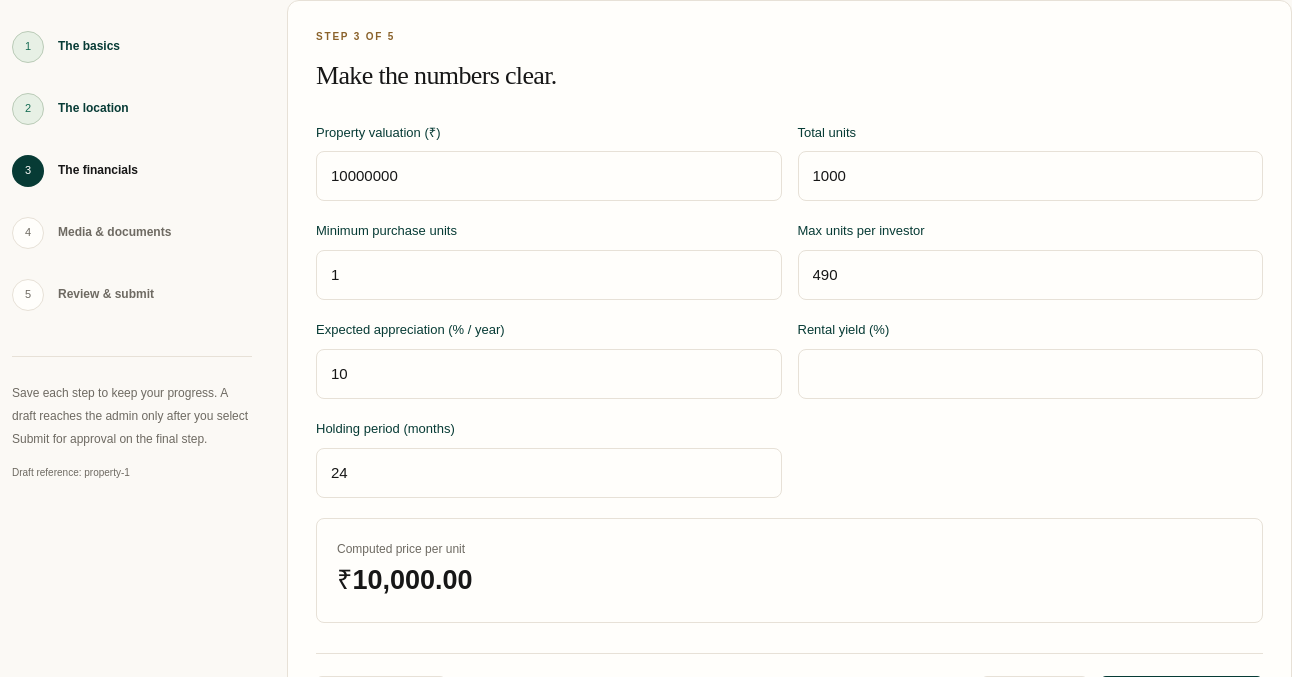
Test: saved listing wizard › preserves financial input when navigating back and saving the location step
Replace the text in the number field labelled "Total units" with "2000" at (1030,176), box [798,151,1263,201]
(page scrolled)
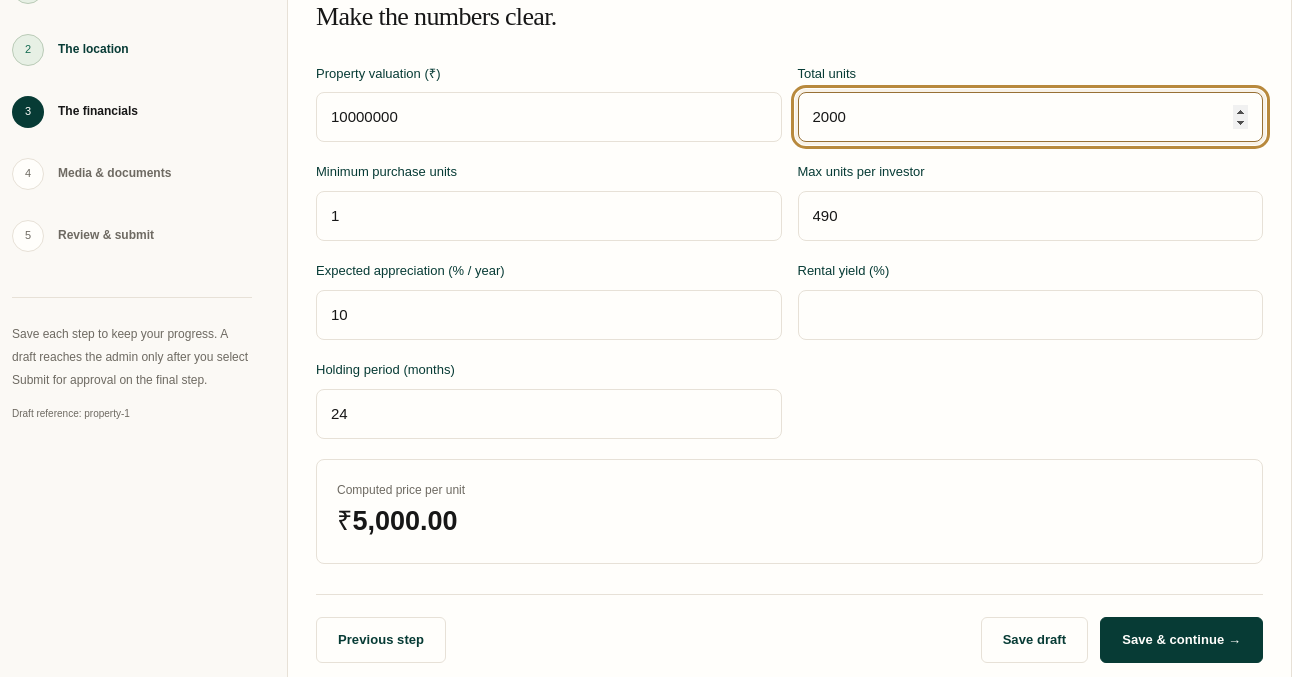
Click the button "Previous step" at (381,640), box [316,617,446,663]
(page scrolled)
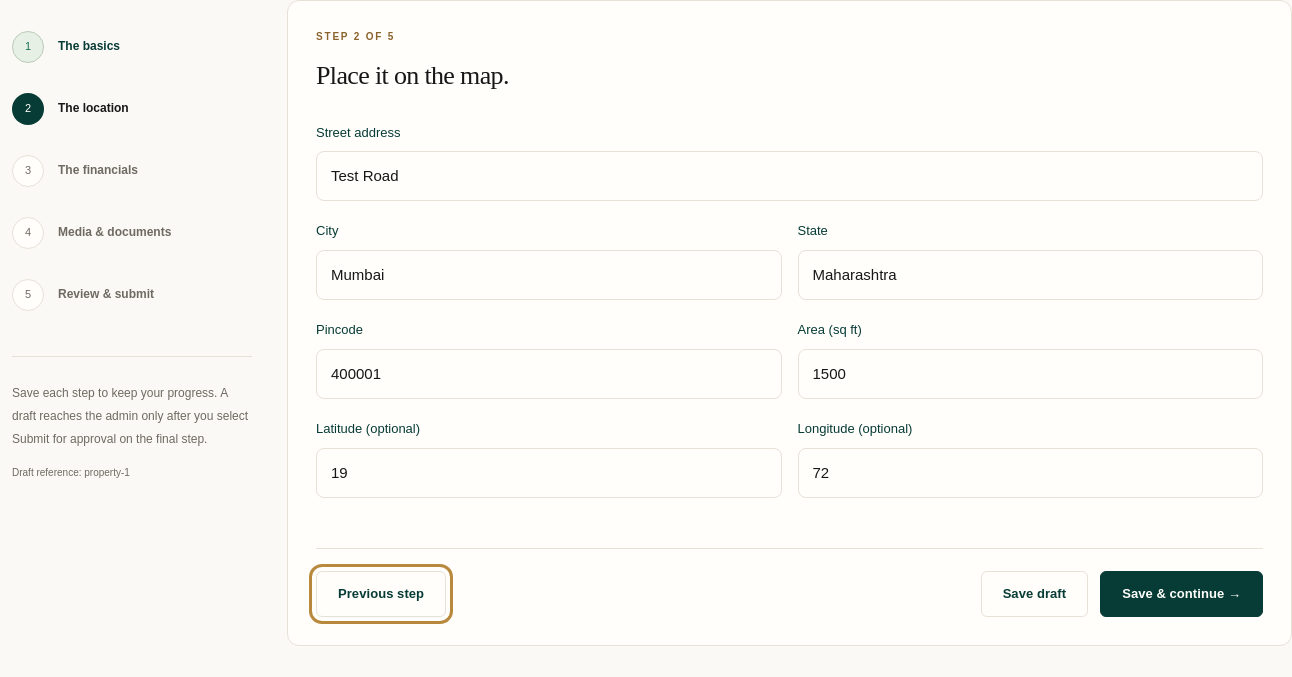
Now the field labelled "City" holds "Mumbai", box [316,250,782,300]
Click the button "Save & continue →" at (1182,594), box [1100,571,1263,617]
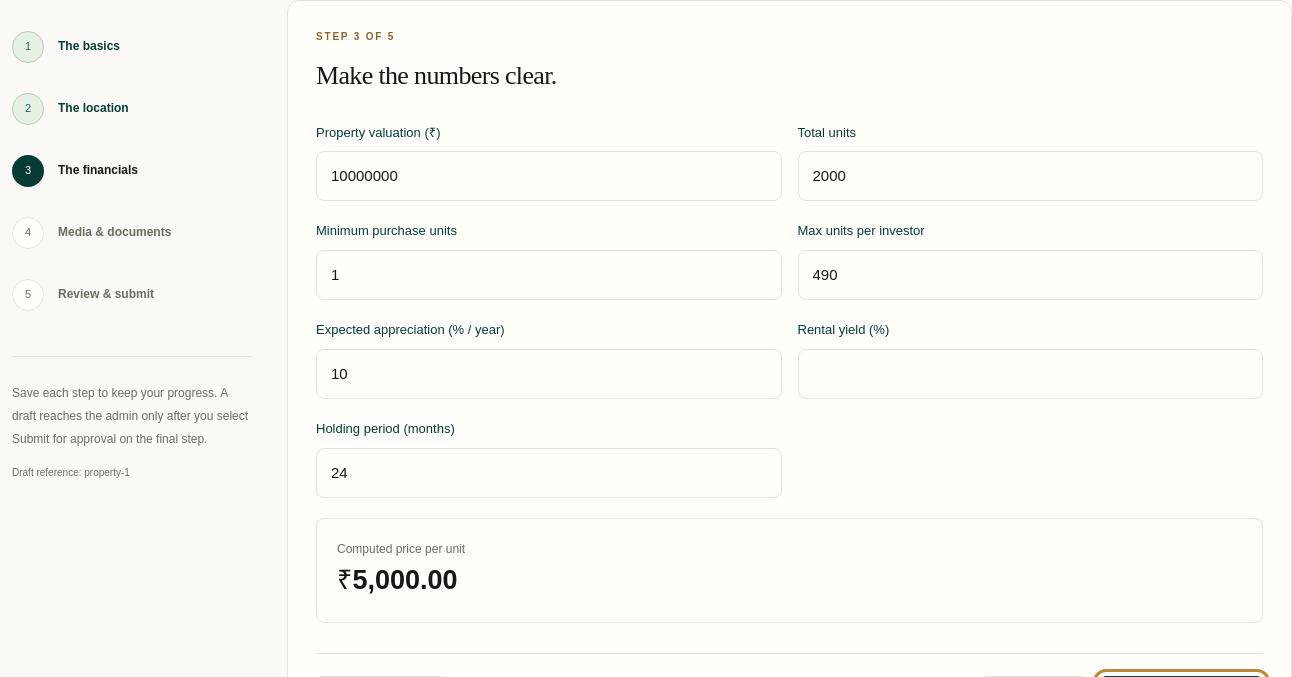
Now the number field labelled "Total units" holds "2000", box [798,151,1263,201]
